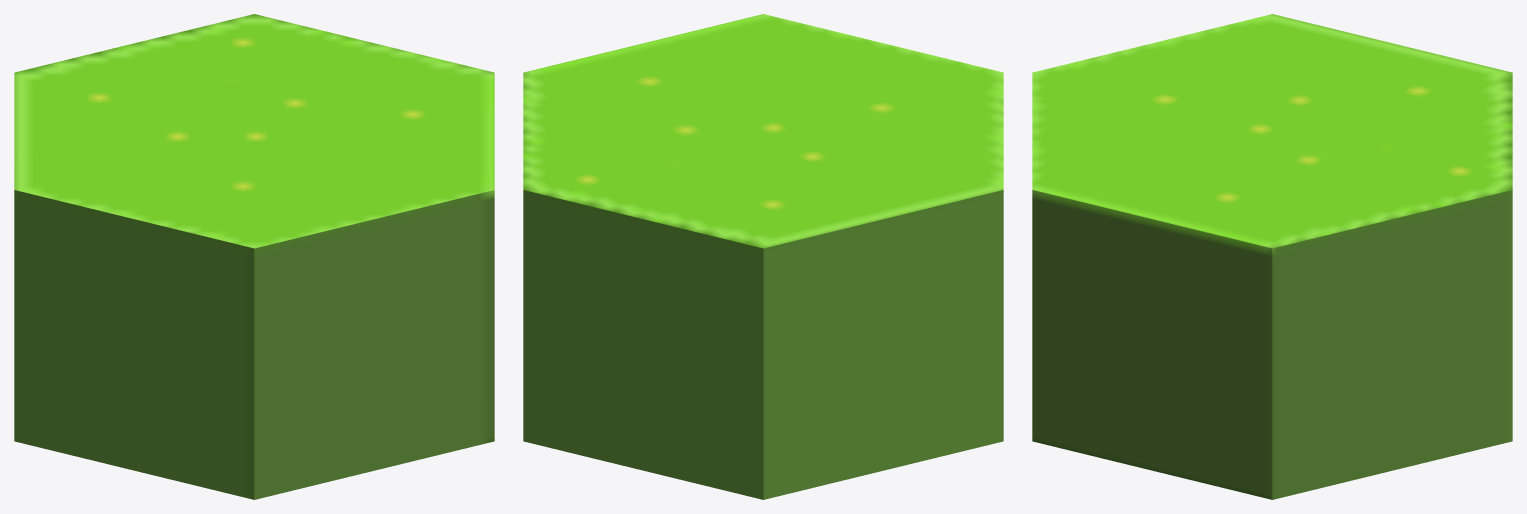
The model's file is ground.glb.
3 renders of one model, left to right at view 1: azimuth 30°, elevation 25°; view 2: azimuth 150°, elevation 25°; view 3: azimuth 270°, elevation 25°, orthographic.
Visible parts, largest first — view 1: ground; view 2: ground; view 3: ground.
Boxes of the visible parts, <box> form: ground: <box>14,14,494,499</box>; ground: <box>523,14,1003,499</box>; ground: <box>1032,14,1512,499</box>.
Size of the model in its own units: 1 by 0.5 by 0.866.
Materials: 1 (1 with a texture image).
